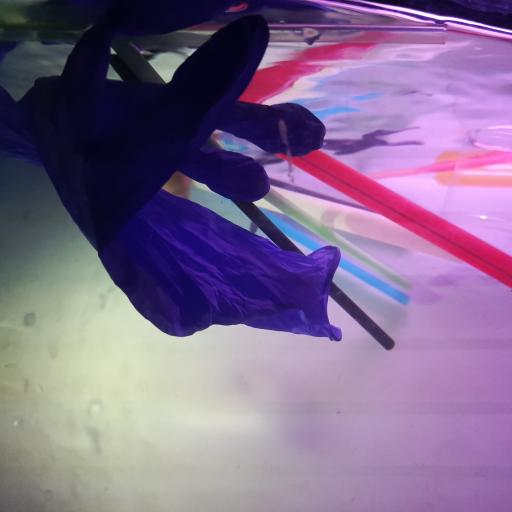glove: (2, 11, 342, 343)
plastic_cup: (439, 124, 512, 230)
plastic_straw: (111, 56, 394, 352), (112, 42, 412, 293), (274, 148, 512, 290), (254, 184, 464, 265), (258, 206, 410, 306), (144, 23, 446, 47)
